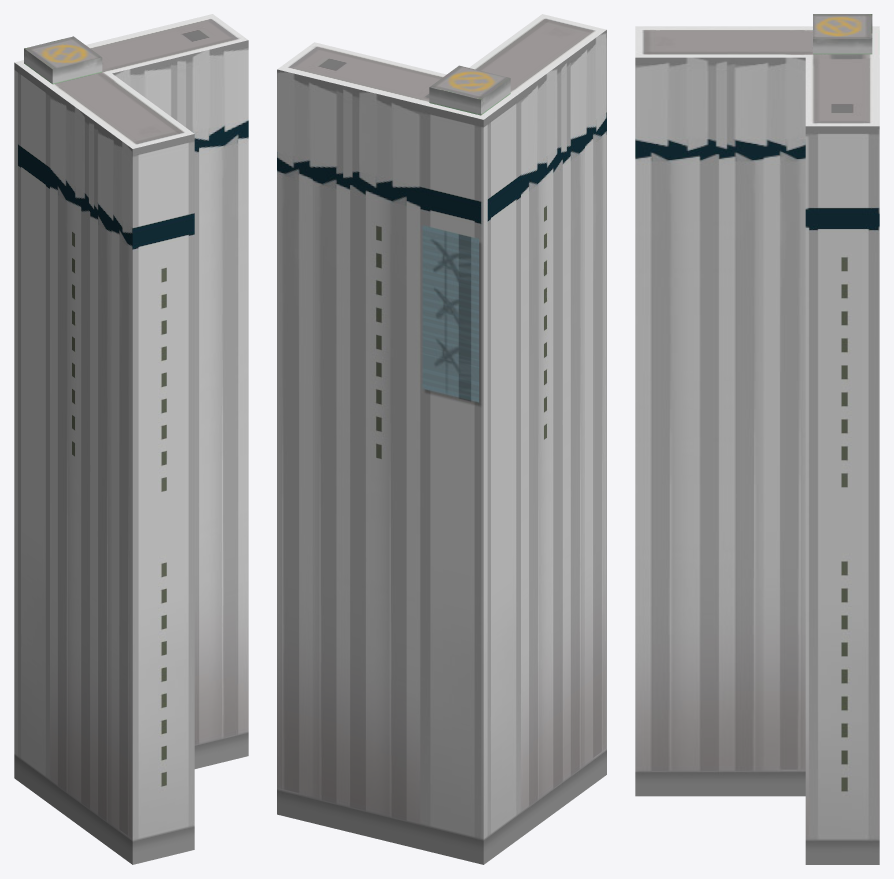
Rendered from House_5.fbx.
3 renders of one model, left to right at view 1: azimuth 30°, elevation 25°; view 2: azimuth 150°, elevation 25°; view 3: azimuth 270°, elevation 25°, orthographic. The views are drawn at different scales.
Parts seen in each view (by area): view 1: House_5; view 2: House_5; view 3: House_5.
Part boxes in pixels (<box>): House_5: <box>14,14,248,864</box>; House_5: <box>277,14,606,864</box>; House_5: <box>635,14,879,864</box>.
Bounding box in the file's own units: 32.03 × 113 × 33.08.
1 material, 1 textured.
